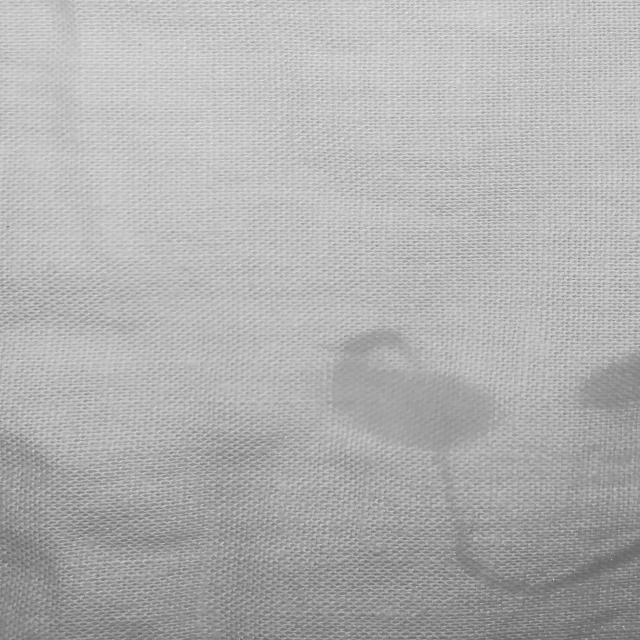stain: (308, 366, 512, 449), (571, 348, 640, 415)
